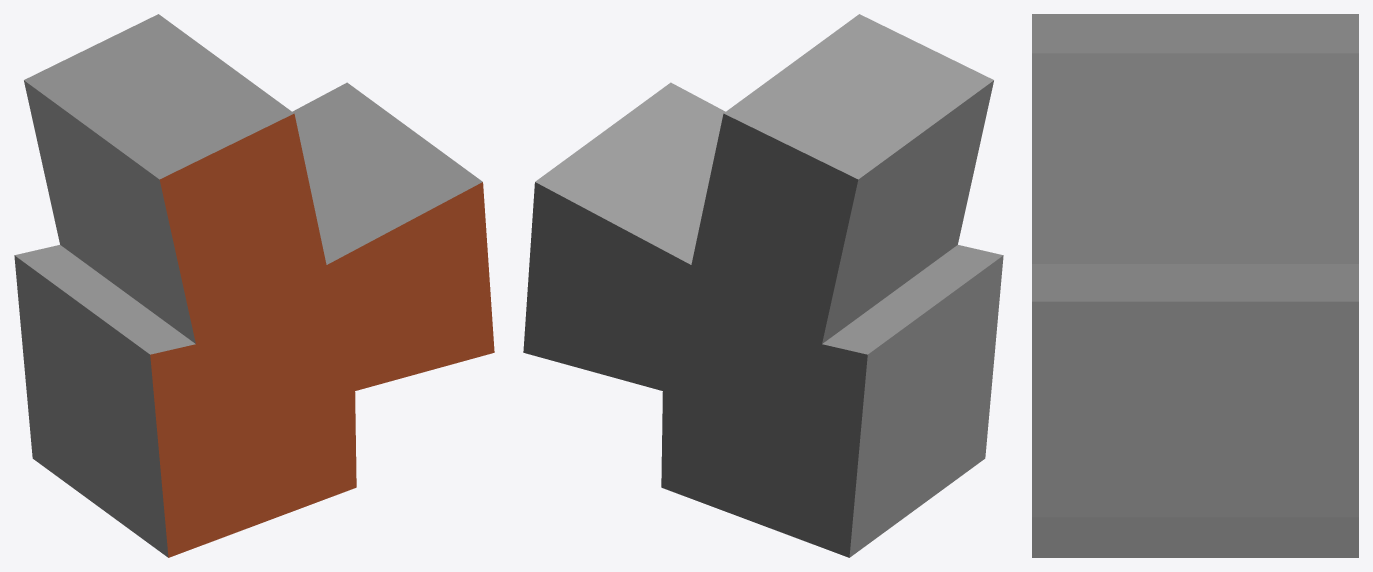
File: construction_2266_assumed_A_Casa_h6m.obj
3 renders of one model, left to right at view 1: azimuth 30°, elevation 25°; view 2: azimuth 150°, elevation 25°; view 3: azimuth 270°, elevation 25°, orthographic. The views are drawn at different scales.
Parts seen in each view (by area): view 1: construction_2266_assumed_A_Casa; view 2: construction_2266_assumed_A_Casa; view 3: construction_2266_assumed_A_Casa.
Part boxes in pixels (x1,y1,x2,y2): construction_2266_assumed_A_Casa: (14, 14, 494, 557); construction_2266_assumed_A_Casa: (523, 14, 1003, 557); construction_2266_assumed_A_Casa: (1032, 14, 1358, 557).
Size of the model in its own units: 8.78 by 10.08 by 6.
